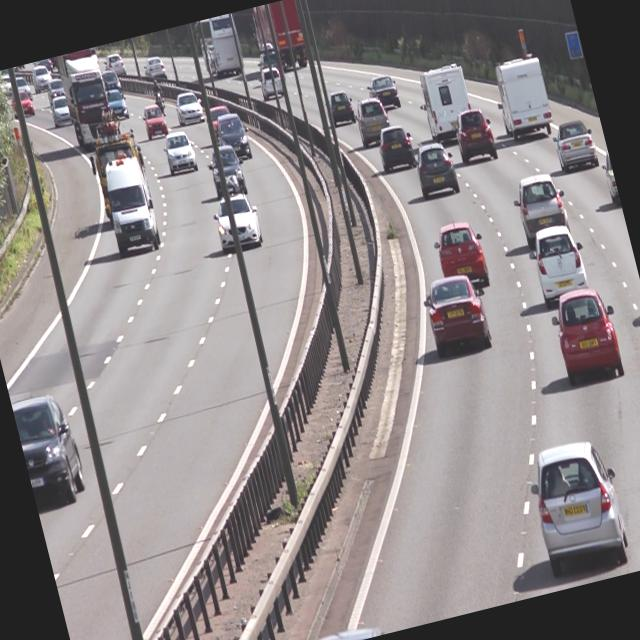Vehicle: (520, 432, 636, 574), (543, 276, 632, 388), (10, 387, 88, 510), (415, 267, 501, 366), (486, 46, 558, 146), (97, 153, 162, 256), (524, 220, 596, 312), (56, 46, 118, 146), (428, 210, 498, 296), (506, 164, 576, 250), (412, 59, 477, 142), (204, 172, 265, 256), (549, 114, 602, 180), (408, 139, 461, 201), (451, 109, 498, 170), (372, 119, 419, 180), (205, 142, 248, 200), (352, 94, 394, 148), (362, 66, 406, 111), (212, 112, 250, 164), (158, 130, 198, 174), (170, 83, 204, 128), (324, 88, 358, 132), (140, 102, 168, 140)
